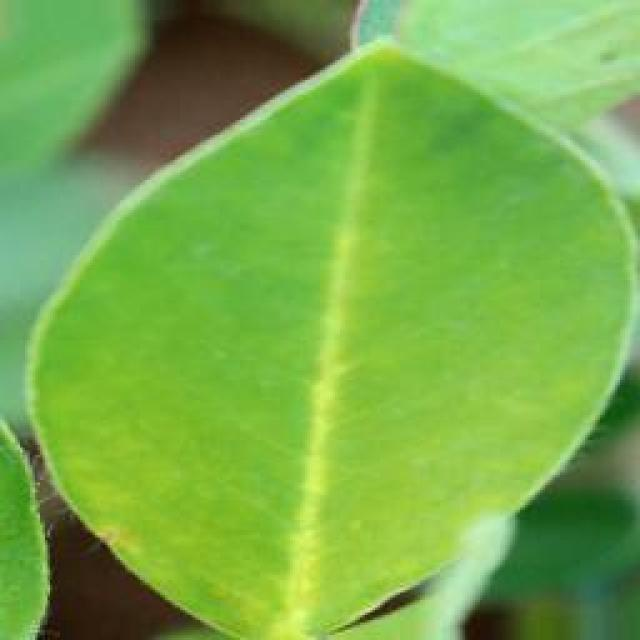Yellow_and_black_sigatoka: (32, 42, 640, 640)
